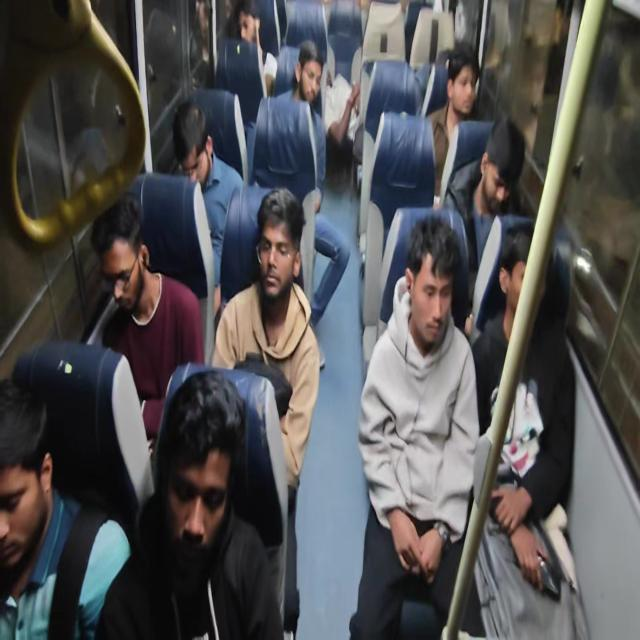person: (98, 190, 216, 412), (0, 372, 70, 598), (177, 375, 241, 577), (157, 93, 256, 220), (492, 215, 571, 346), (402, 237, 483, 357), (246, 182, 305, 294), (486, 130, 534, 218), (436, 38, 485, 118), (214, 0, 271, 55), (293, 36, 320, 119), (322, 64, 355, 123)
